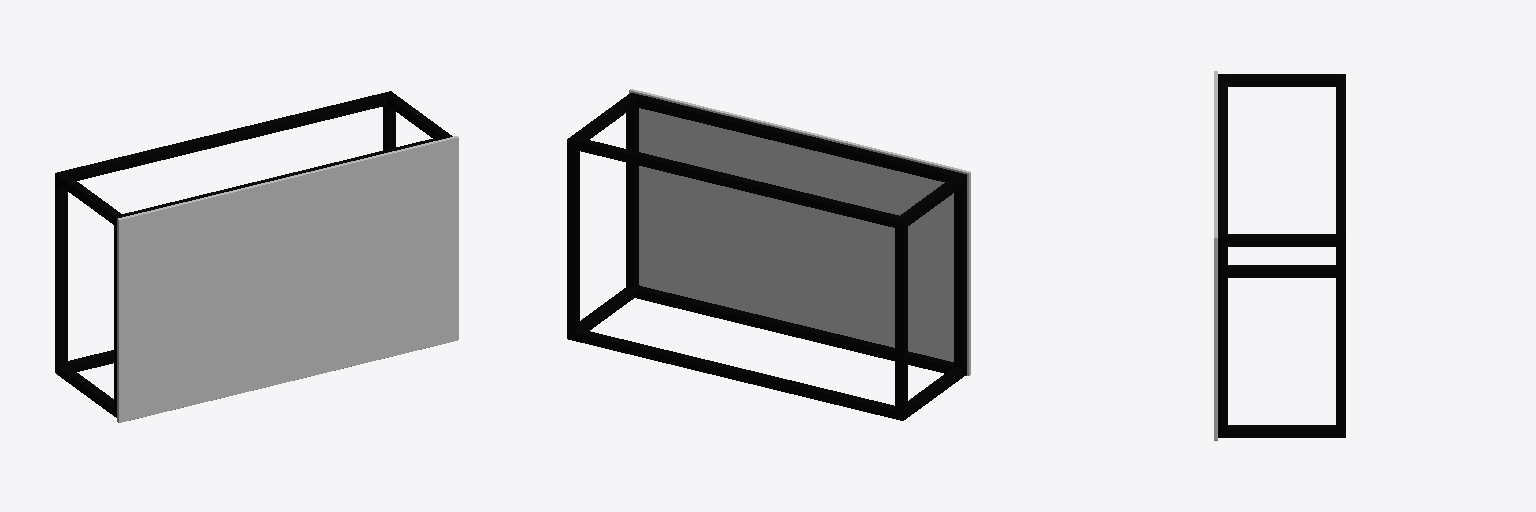
File: marbletable.obj
The picture shows the model from 3 angles: view 1: azimuth 30°, elevation 25°; view 2: azimuth 150°, elevation 25°; view 3: azimuth 270°, elevation 25°; orthographic projection.
Visible parts, largest first — view 1: mable_Cube.002, metal-support_Cube.001; view 2: mable_Cube.002, metal-support_Cube.001; view 3: metal-support_Cube.001, mable_Cube.002.
Part boxes in pixels (x1,y1,x2,y2): mable_Cube.002: (117, 136, 458, 422); metal-support_Cube.001: (55, 91, 452, 417); mable_Cube.002: (629, 89, 970, 375); metal-support_Cube.001: (567, 93, 966, 420); metal-support_Cube.001: (1218, 74, 1345, 437); mable_Cube.002: (1214, 71, 1217, 440).
Bounding box in the file's own units: 1.24 × 0.7085 × 0.4178.